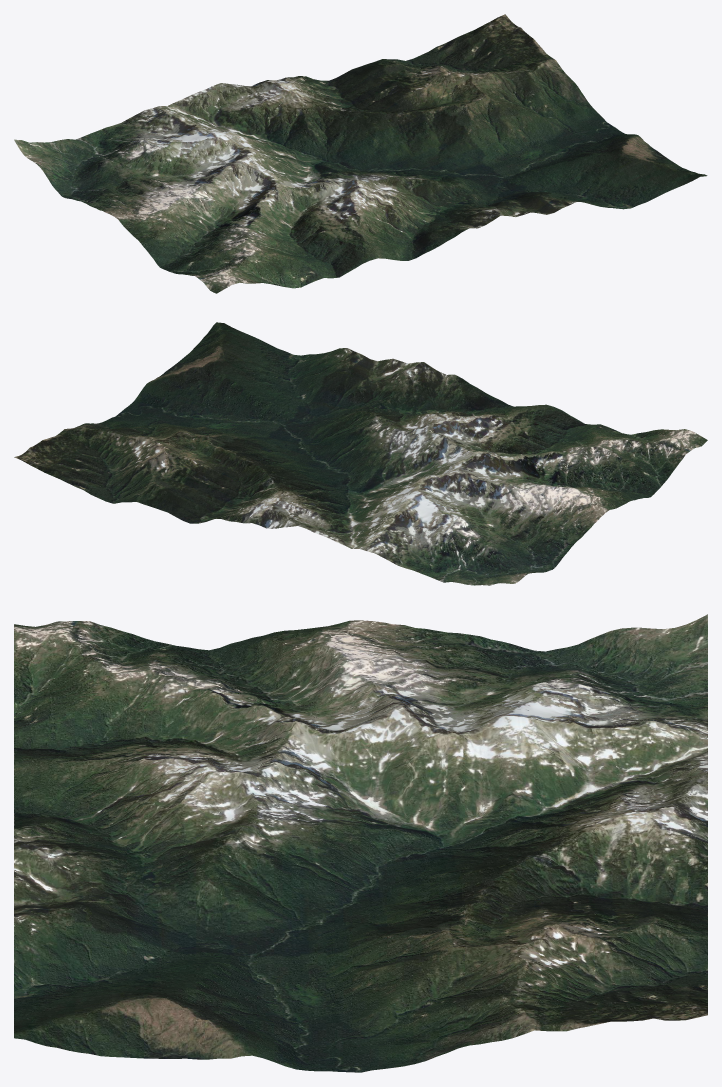
The picture shows the model from 3 angles, top to bottom: view 1: azimuth 30°, elevation 25°; view 2: azimuth 150°, elevation 25°; view 3: azimuth 270°, elevation 25°; orthographic projection. The views are drawn at different scales.
Parts seen in each view (by area): view 1: EXPORT_GOOGLE_SAT_WM; view 2: EXPORT_GOOGLE_SAT_WM; view 3: EXPORT_GOOGLE_SAT_WM.
Part boxes in pixels (<box>): EXPORT_GOOGLE_SAT_WM: <box>14,14,707,293</box>; EXPORT_GOOGLE_SAT_WM: <box>14,322,707,585</box>; EXPORT_GOOGLE_SAT_WM: <box>14,614,707,1072</box>.
Size of the model in its own units: 17122 by 12230 by 1322.
1 material, 1 textured.
